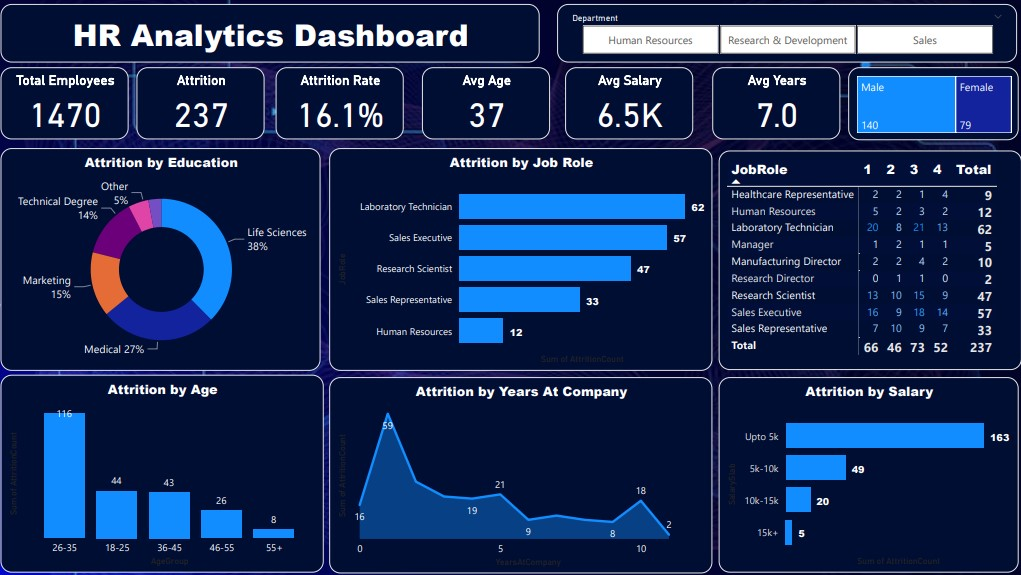

Layout of this report page (visuals, bound fields, positions):
{"tool":"powerbi","page":{"name":"Page 1","canvas":[1280,720],"ordinal":0},"visuals":[{"type":"card","title":"Total Employees","fields":{"Values":["CountNonNull(HR-Employee-Attrition.EmployeeNumber)"]},"box":[3.3,85,160,90],"z":0},{"type":"card","title":"Attrition","fields":{"Values":["Sum(HR-Employee-Attrition.AttritionCount)"]},"box":[173.3,85,160,90],"z":1000},{"type":"card","title":"Attrition Rate","fields":{"Values":["HR-Employee-Attrition.AttritionRate"]},"box":[346.6,85,160,90],"z":2000},{"type":"card","title":"Avg Age","fields":{"Values":["Avg(HR-Employee-Attrition.Age)"]},"box":[529.7,85,160,90],"z":3000},{"type":"card","title":"Avg Salary","fields":{"Values":["Avg(HR-Employee-Attrition.MonthlyIncome)"]},"box":[709.5,85,160,90],"z":4000},{"type":"card","title":"Avg Years","fields":{"Values":["Avg(HR-Employee-Attrition.YearsAtCompany)"]},"box":[892.6,85,160,90],"z":5000},{"type":"donutChart","title":"Attrition by Education","fields":{"Category":["HR-Employee-Attrition.EducationField"],"Y":["Sum(HR-Employee-Attrition.AttritionCount)"]},"box":[2.8,185.7,400,278],"z":6000},{"type":"pivotTable","fields":{"Rows":["HR-Employee-Attrition.JobRole"],"Columns":["HR-Employee-Attrition.JobSatisfaction"],"Values":["Sum(HR-Employee-Attrition.AttritionCount)"]},"box":[901.4,188.5,378.4,275],"z":7000},{"type":"clusteredBarChart","title":"Attrition by Salary","fields":{"Category":["HR-Employee-Attrition.SalarySlab"],"Y":["Sum(HR-Employee-Attrition.AttritionCount)"]},"box":[901.4,472,374.2,243.8],"z":8000},{"type":"clusteredBarChart","title":"Attrition by Job Role","fields":{"Y":["Sum(HR-Employee-Attrition.AttritionCount)"],"Category":["HR-Employee-Attrition.JobRole"]},"box":[413.9,185.7,479.1,278],"z":9000},{"type":"columnChart","title":"Attrition by Age","fields":{"Y":["Sum(HR-Employee-Attrition.AttritionCount)"],"Category":["HR-Employee-Attrition.AgeGroup"]},"box":[2.8,469.1,404,247],"z":10000},{"type":"areaChart","title":"Attrition by Years At Company","fields":{"Category":["HR-Employee-Attrition.YearsAtCompany"],"Y":["Sum(HR-Employee-Attrition.AttritionCount)"]},"box":[413.6,472.4,479,245],"z":11000},{"type":"treemap","title":"Attrition by Years At Company","fields":{"Group":["HR-Employee-Attrition.Gender"],"Values":["Sum(HR-Employee-Attrition.AttritionCount)"]},"box":[1063,85,213,90.7],"z":11001},{"type":"slicer","fields":{"Values":["HR-Employee-Attrition.Department"]},"box":[698.7,5.7,575.4,73],"z":11002},{"type":"textbox","box":[2.8,5.7,674.6,73],"z":11003}]}

Visuals, with their boxes in screenshot pixels (x1, y1, x2, y2), scaled from the page's 1280x720 canvas onto the 1021x575 screenshot:
"Total Employees" card: 3, 68, 130, 140
"Attrition" card: 138, 68, 266, 140
"Attrition Rate" card: 276, 68, 404, 140
"Avg Age" card: 423, 68, 550, 140
"Avg Salary" card: 566, 68, 694, 140
"Avg Years" card: 712, 68, 840, 140
"Attrition by Education" donutChart: 2, 148, 321, 370
pivotTable - HR-Employee-Attrition.JobRole x HR-Employee-Attrition.JobSatisfaction: 719, 151, 1020, 370
"Attrition by Salary" clusteredBarChart: 719, 377, 1017, 572
"Attrition by Job Role" clusteredBarChart: 330, 148, 712, 370
"Attrition by Age" columnChart: 2, 375, 324, 572
"Attrition by Years At Company" areaChart: 330, 377, 712, 573
"Attrition by Years At Company" treemap: 848, 68, 1018, 140
slicer - HR-Employee-Attrition.Department: 557, 5, 1016, 63
textbox: 2, 5, 540, 63
